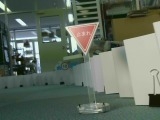stop: (65, 22, 100, 55)
